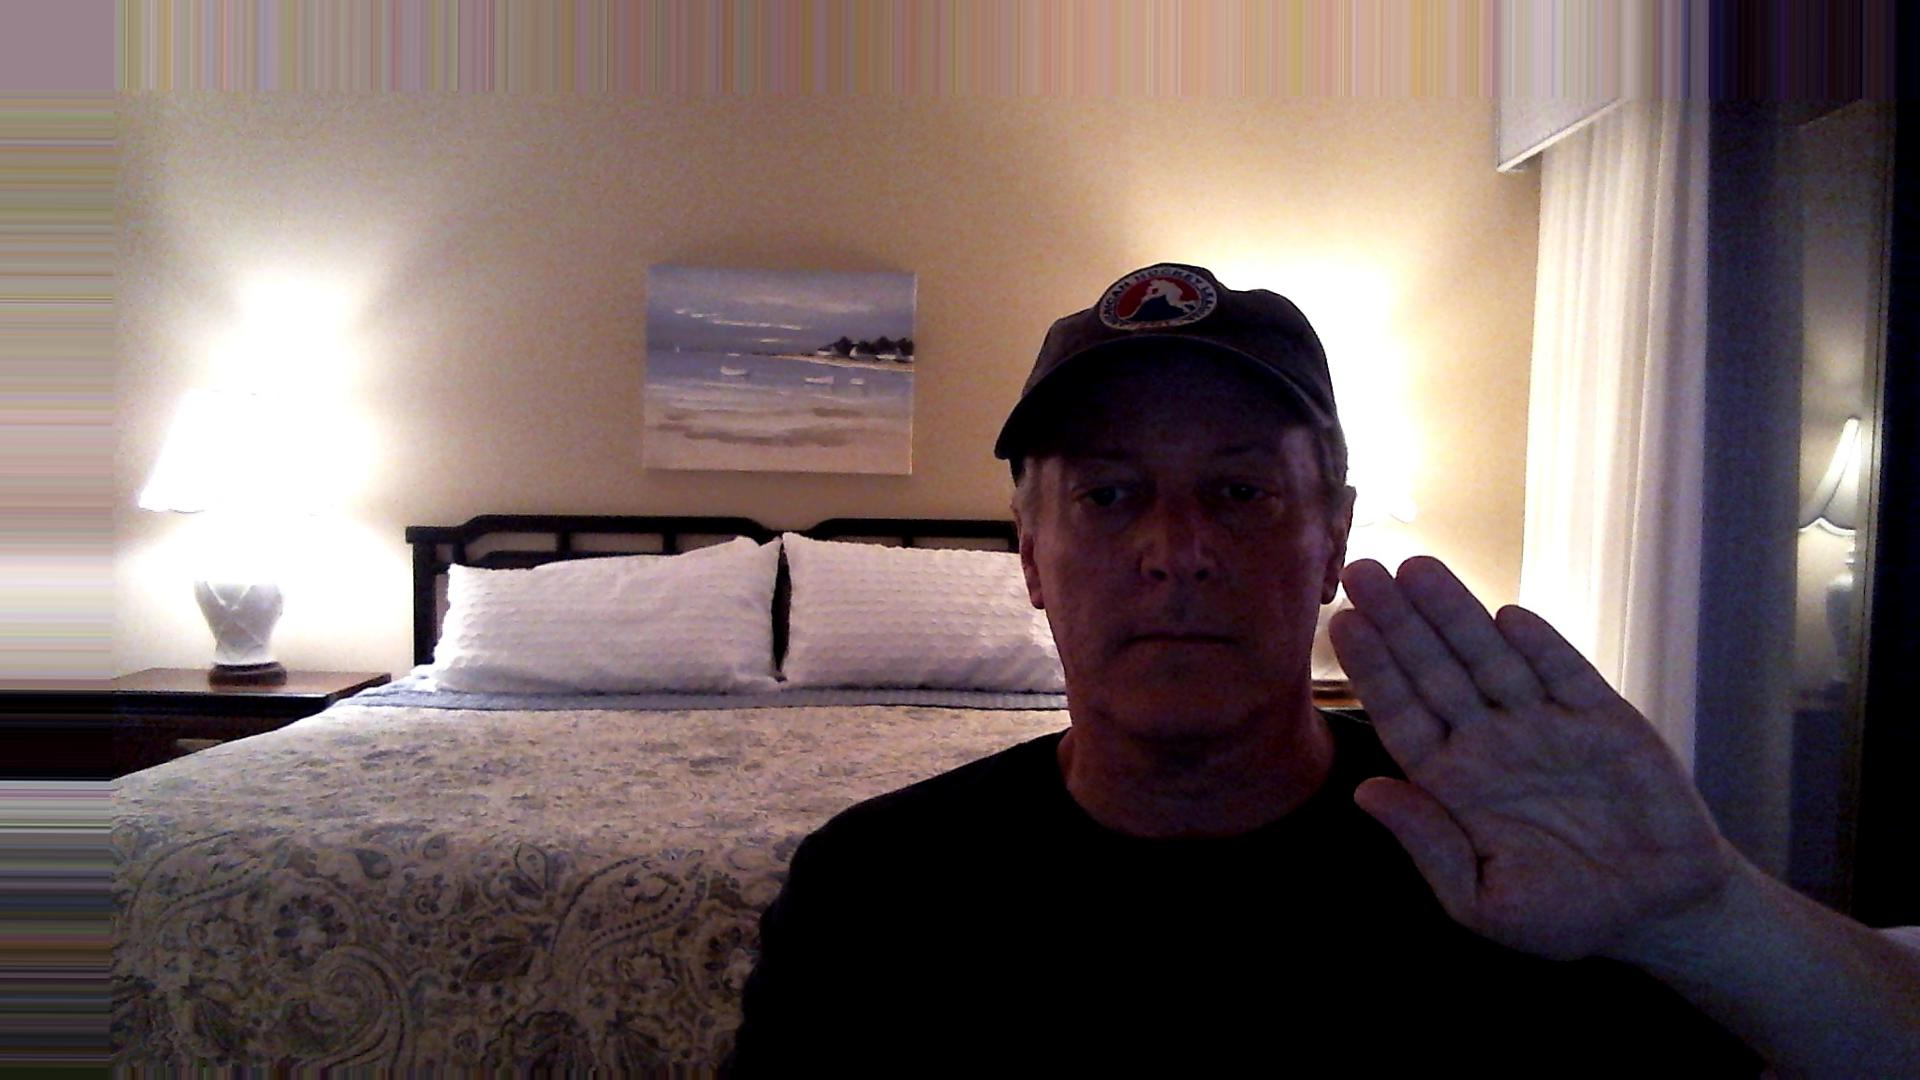Hello: (1317, 518, 1751, 972)
